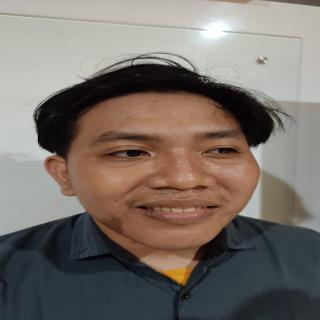Senang: (67, 80, 263, 252)
